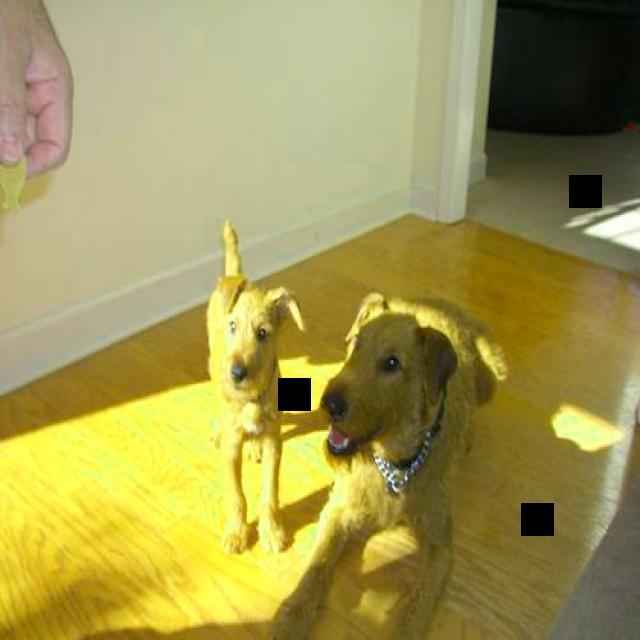adult_dog: (265, 292, 512, 640)
puppy-dog: (204, 217, 308, 558)
